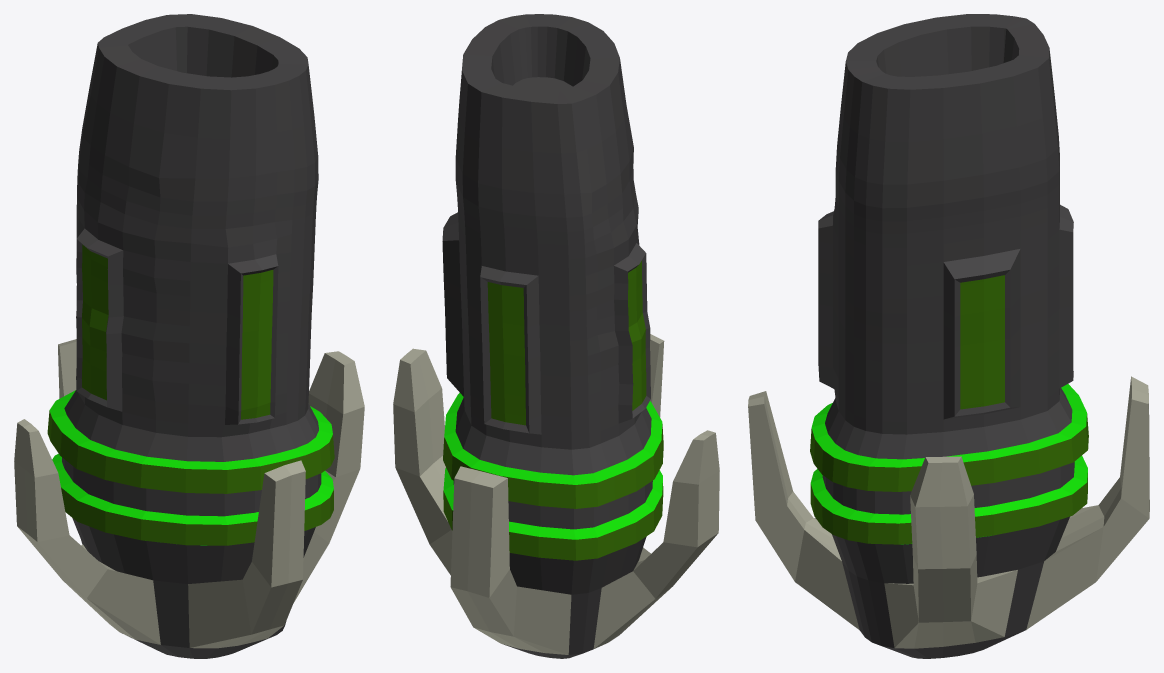
The model's file is ArmaBombs.fbx.
The picture shows the model from 3 angles, left to right: view 1: azimuth 30°, elevation 25°; view 2: azimuth 150°, elevation 25°; view 3: azimuth 270°, elevation 25°; orthographic projection. The views are drawn at different scales.
Parts seen in each view (by area): view 1: Weapon4.Bombs; view 2: Weapon4.Bombs; view 3: Weapon4.Bombs.
Part boxes in pixels (x1,y1,x2,y2): Weapon4.Bombs: (14,14,364,658); Weapon4.Bombs: (393,14,719,658); Weapon4.Bombs: (748,14,1149,658).
Size of the model in its own units: 62.97 by 111 by 67.24.
